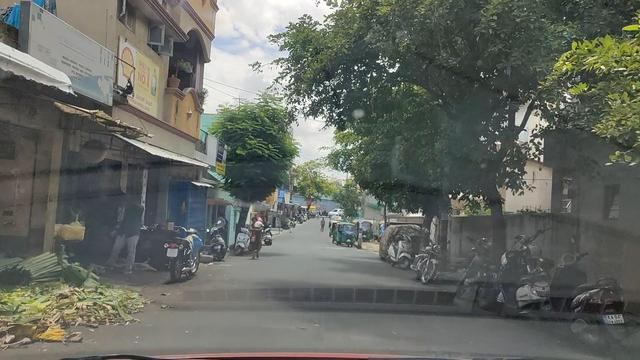LMV: (168, 224, 191, 277), (333, 223, 355, 247)
